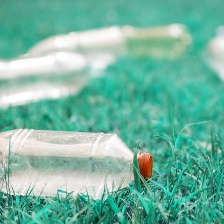bottle: (0, 122, 159, 197)
